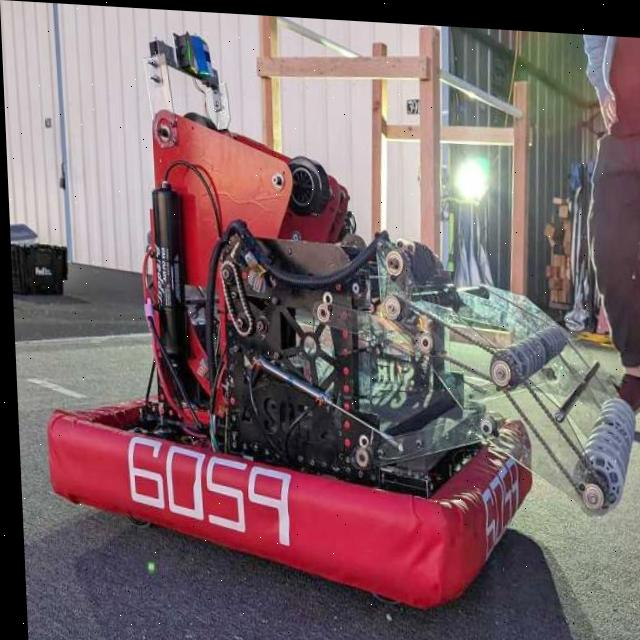robot: (25, 23, 640, 615)
